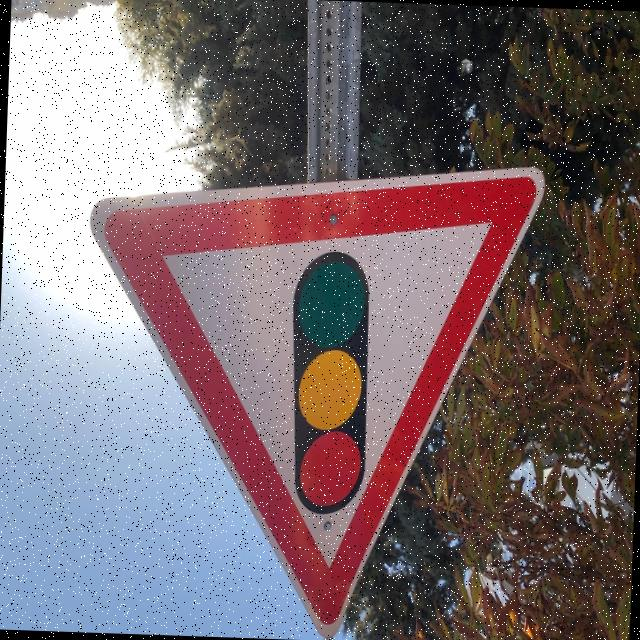light_traffic: (72, 141, 554, 640)
